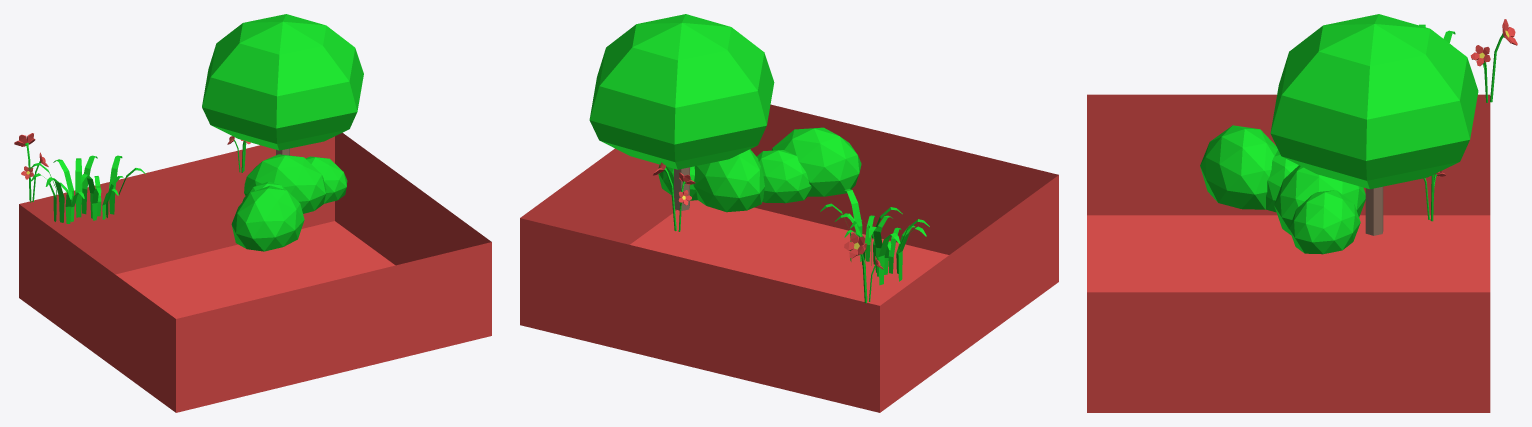
3 renders of one model, left to right at view 1: azimuth 30°, elevation 25°; view 2: azimuth 150°, elevation 25°; view 3: azimuth 270°, elevation 25°, orthographic. The views are drawn at different scales.
Visible parts, largest first — view 1: base; view 2: base; view 3: base.
Boxes of the visible parts, x1,y1,x2,y2 form: base: (14,14,491,412); base: (520,14,1058,412); base: (1087,14,1517,412).
Size of the model in its own units: 3.99 by 2.95 by 3.51.
